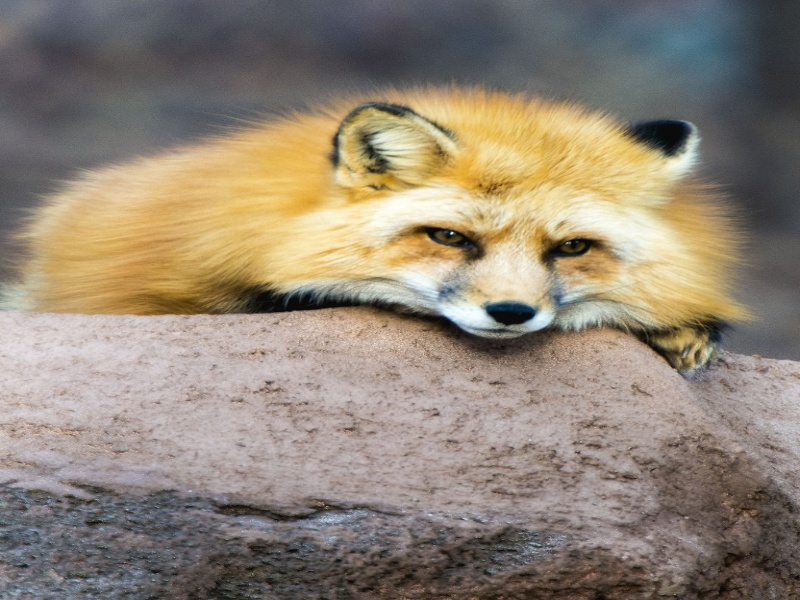fox: (19, 79, 750, 371)
